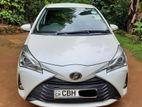car: (17, 3, 130, 107)
